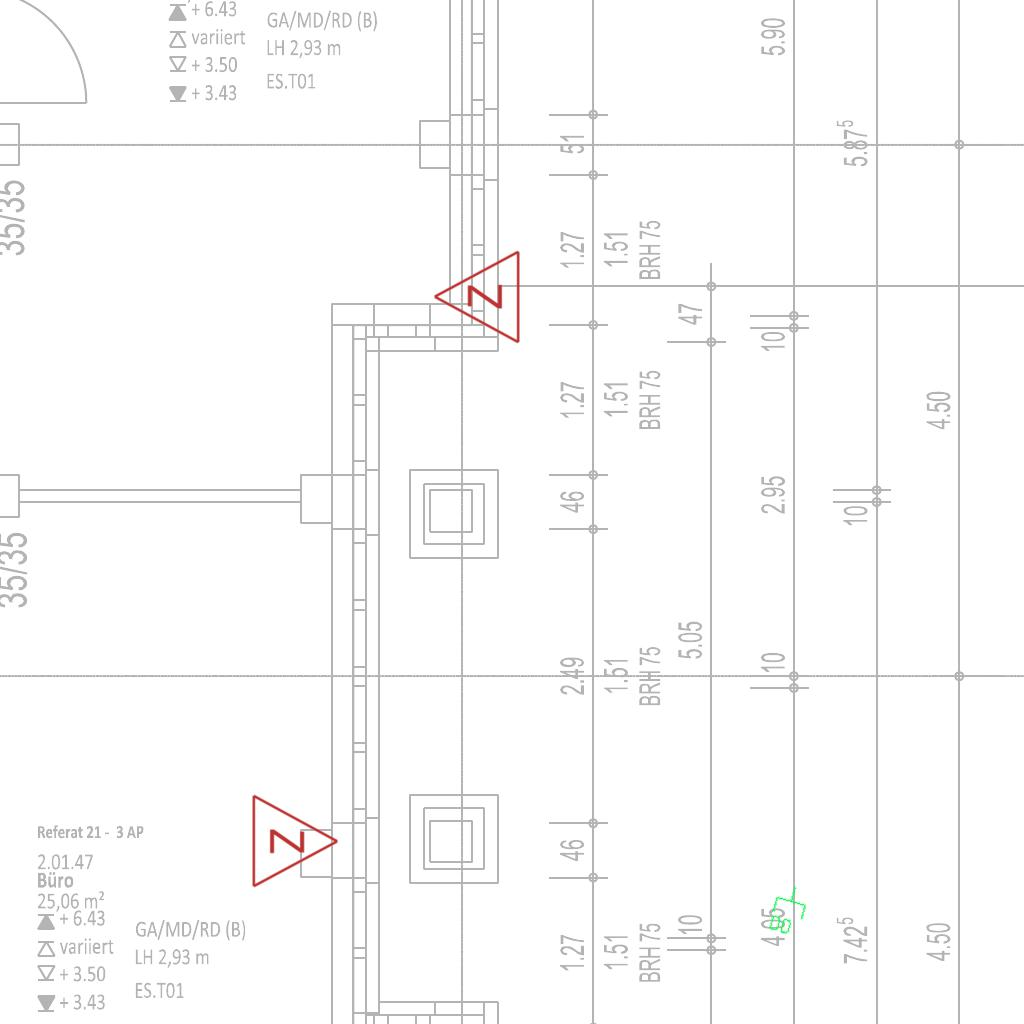Datenanschluss_zweifach: (765, 880, 812, 940)
Zimmersignalleuchte: (427, 249, 527, 347), (245, 791, 345, 889)
